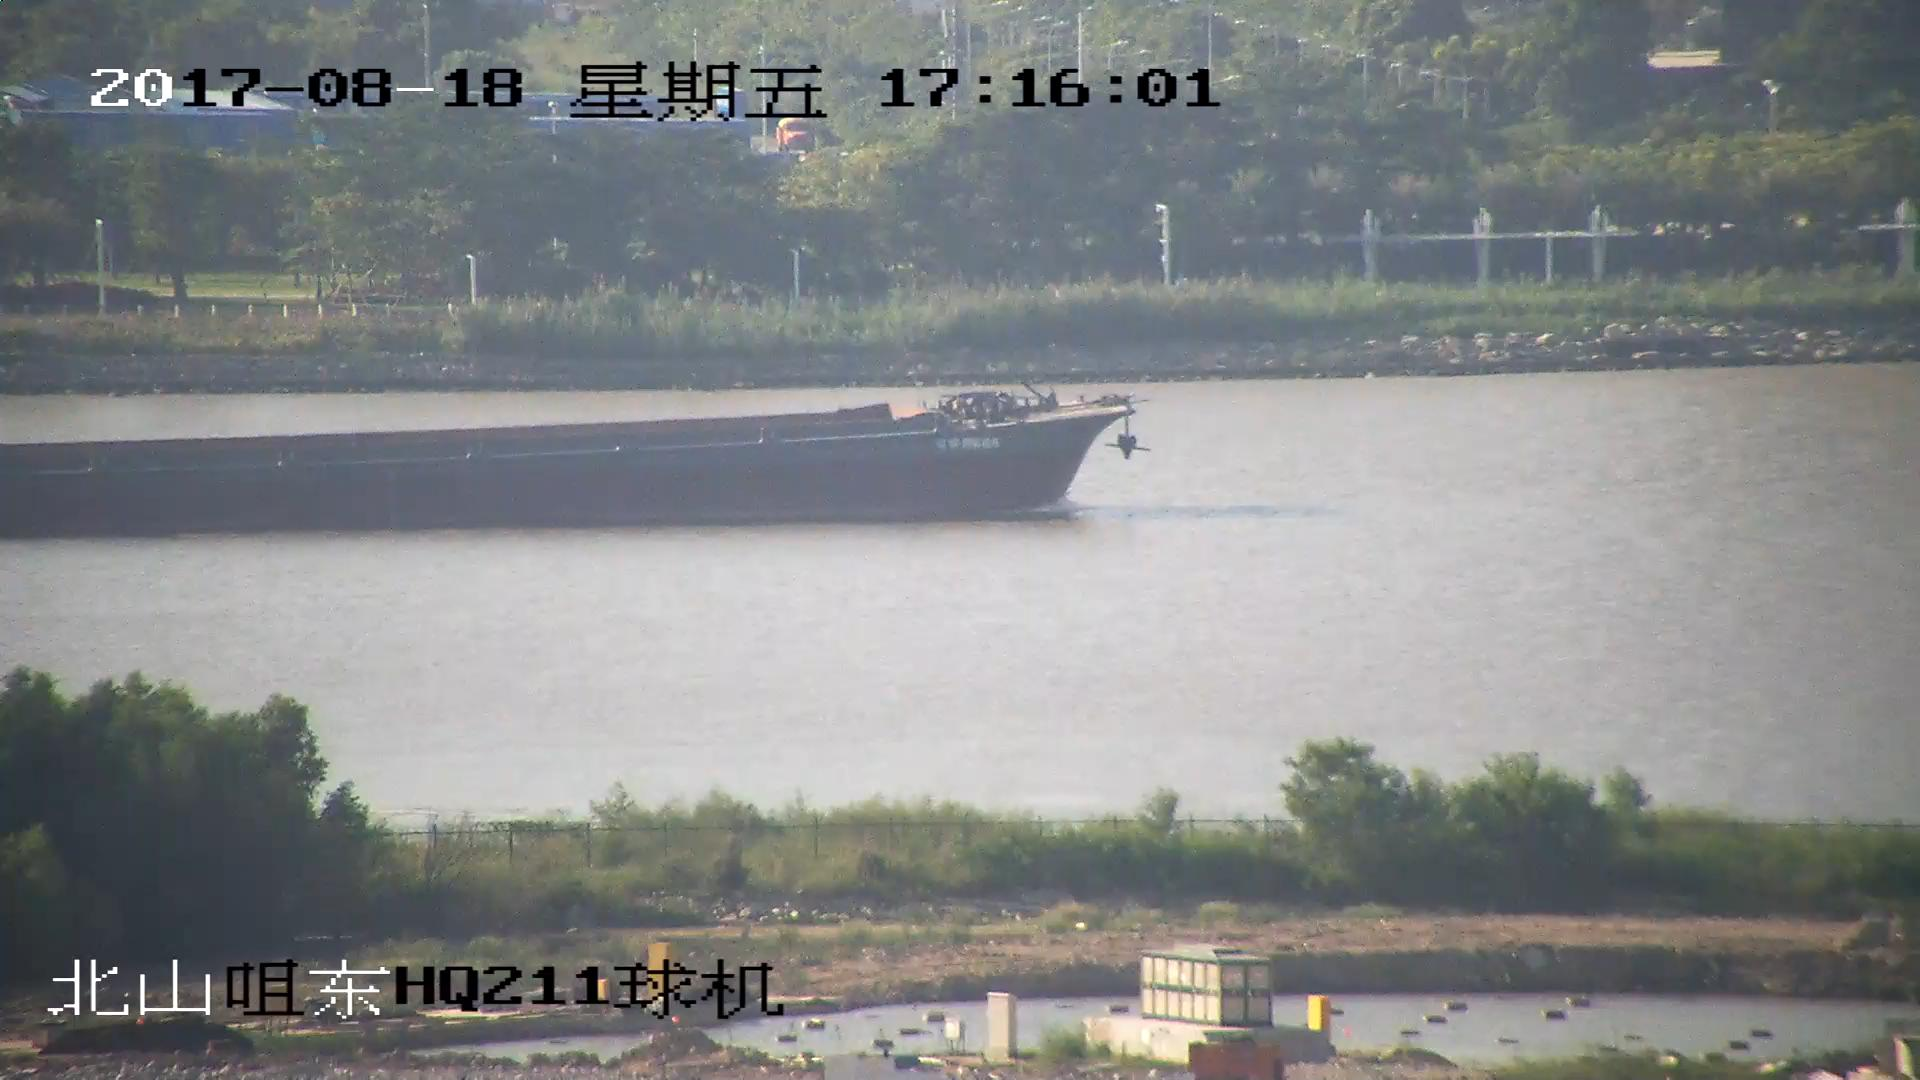bulk cargo carrier: (1, 392, 1139, 532)
